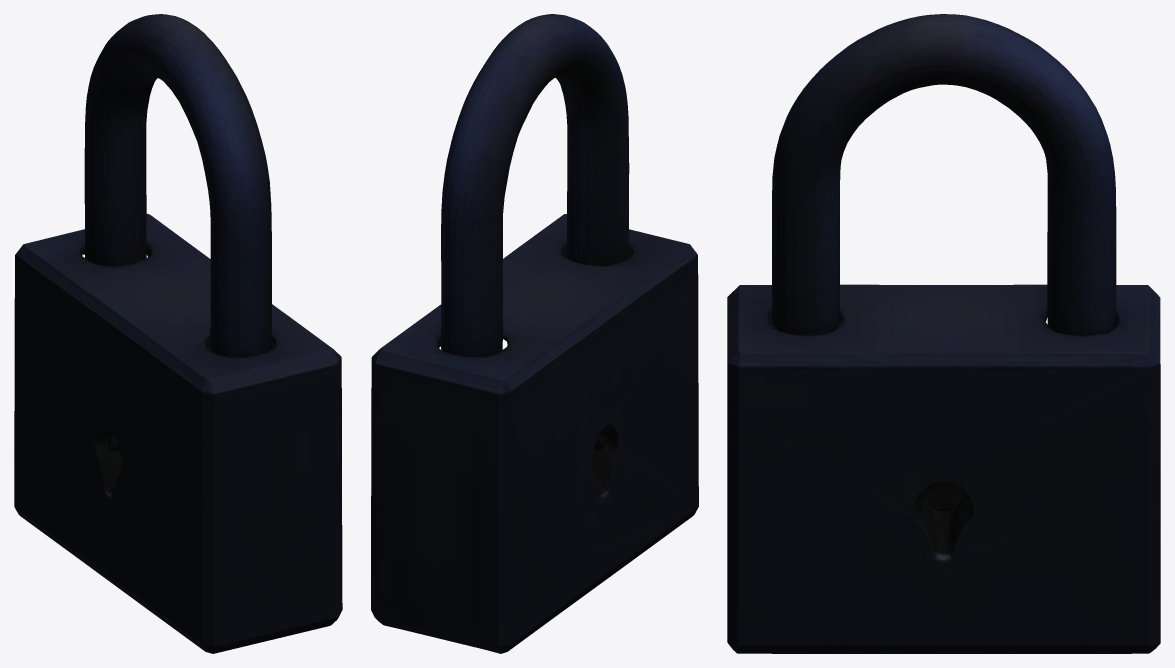
File: chave.glb
The picture shows the model from 3 angles, left to right: view 1: azimuth 30°, elevation 25°; view 2: azimuth 150°, elevation 25°; view 3: azimuth 270°, elevation 25°; orthographic projection. The views are drawn at different scales.
Size of the model in its own units: 0.2706 by 1 by 0.6499.
1 material, 1 textured.
